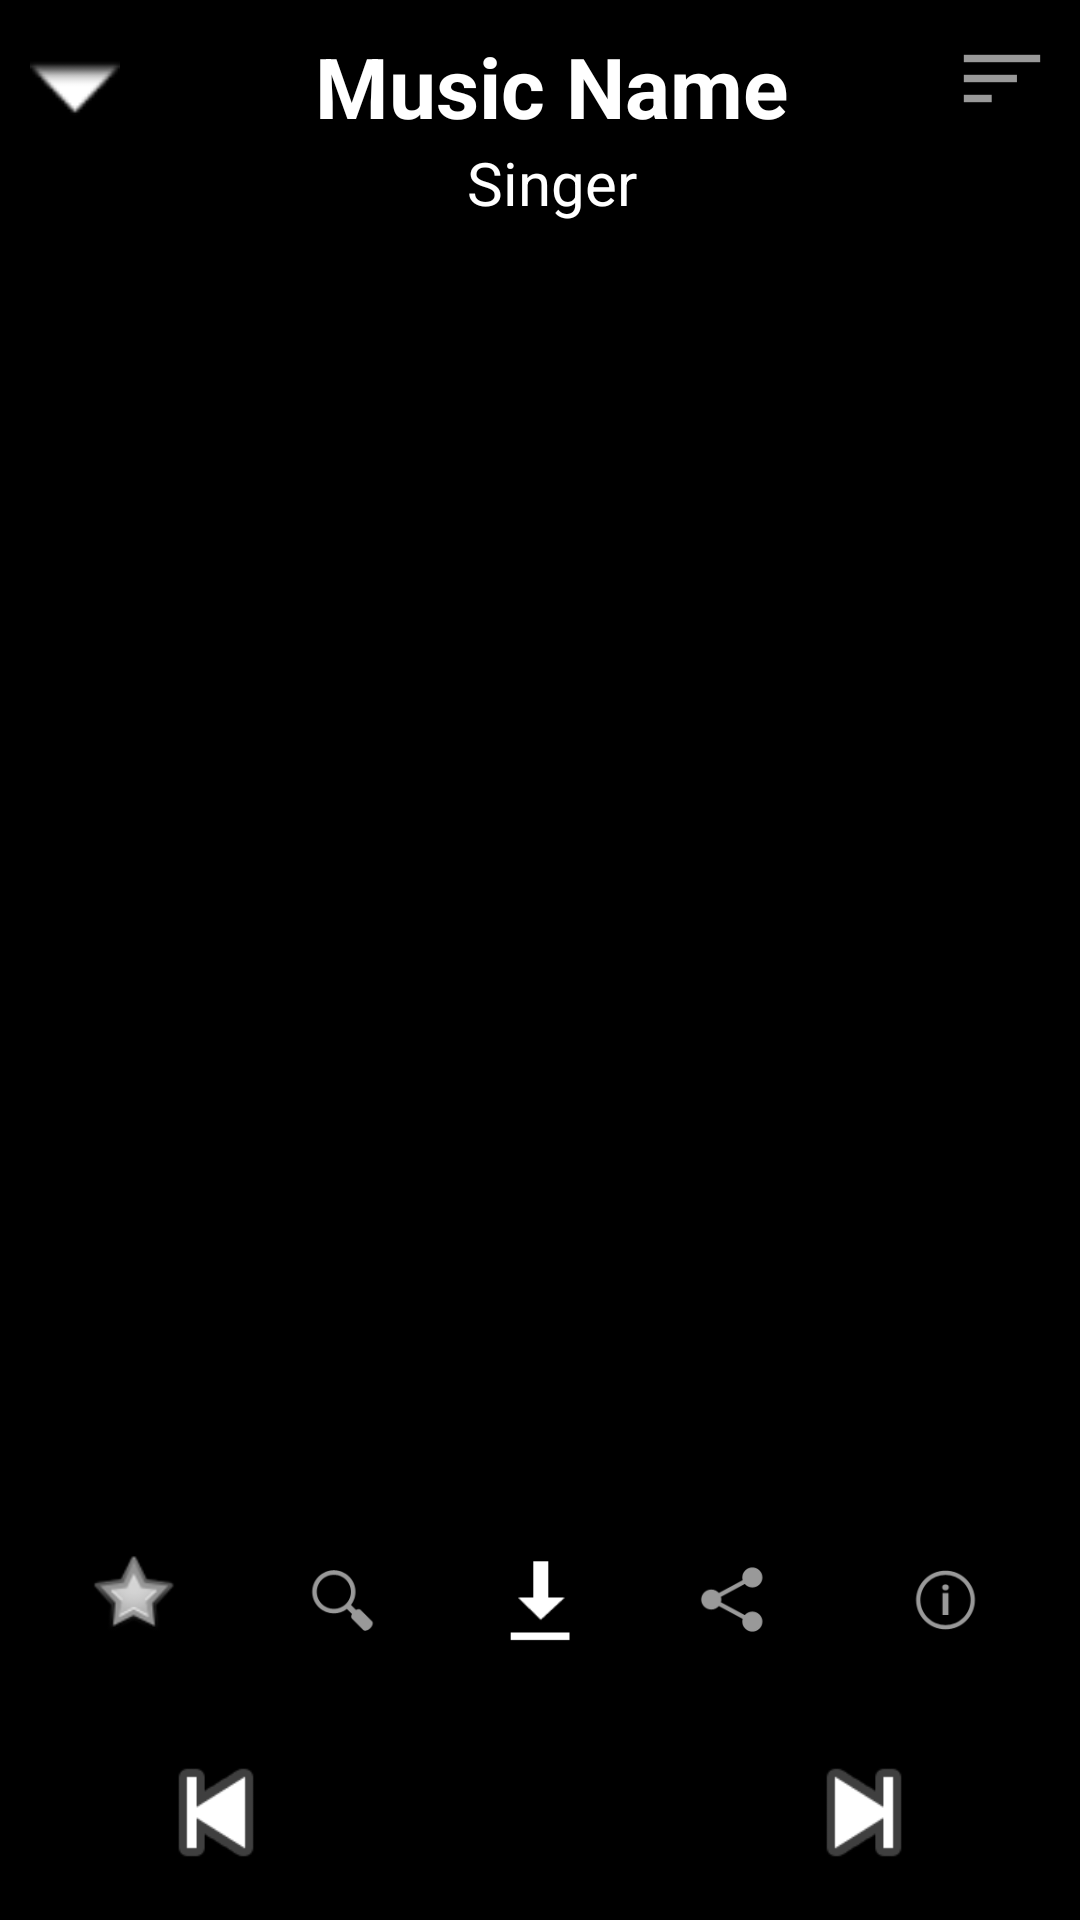

Screen size 1080*1920. Icon name, then its box in pixels as (x1, y1, x2, y2):
arrow down float: (30, 64, 120, 113)
download: (510, 1561, 570, 1641)
info details: (916, 1570, 975, 1630)
next: (827, 1769, 901, 1856)
previous: (179, 1769, 253, 1856)
search: (312, 1570, 373, 1631)
share: (701, 1567, 763, 1632)
sort by size: (963, 54, 1041, 103)
star off: (94, 1556, 173, 1627)
